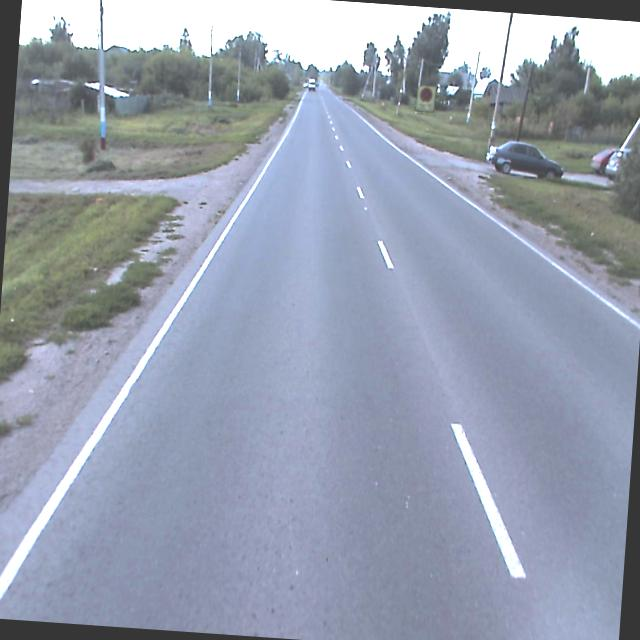road: (0, 80, 640, 640)
